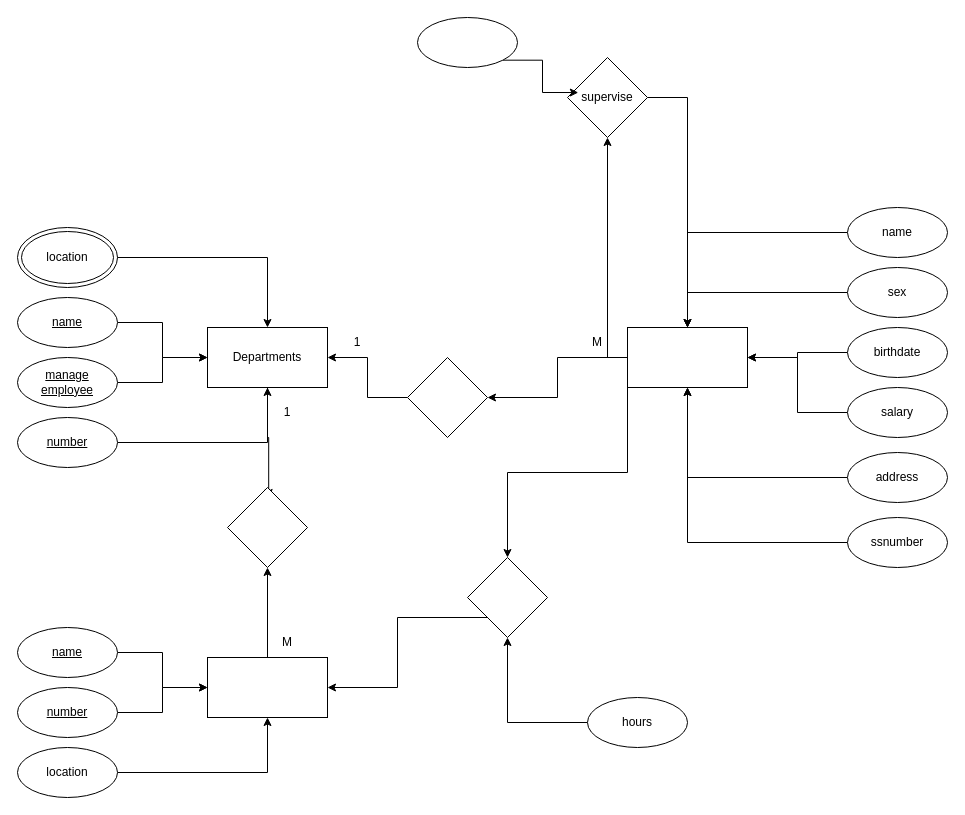
Some shapes in this 965 by 815 pixel diagram are drawn without their labels. Here are the shapes that lost their labels. From the top down, the centre of each, then its label:
At (467,42): "direct supervisor".
At (687,357): "Employee".
At (447,397): "assign".
At (267,527): "controls".
At (507,597): "worlk".
At (267,687): "Projects".
